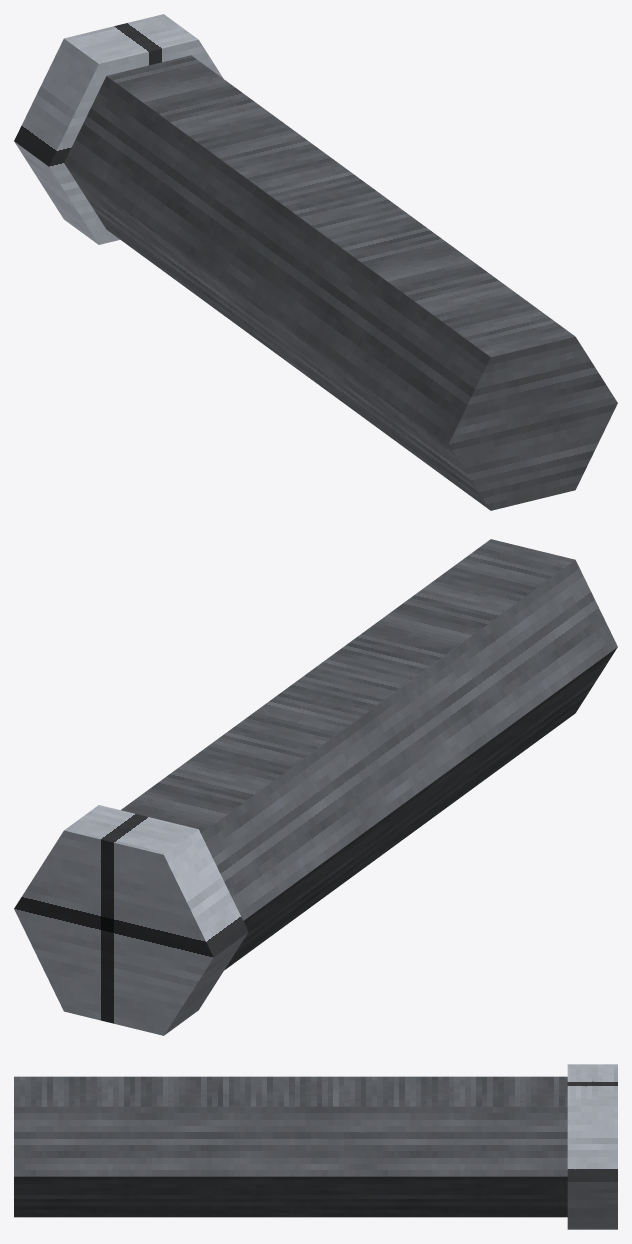
File: barrel_port_kestrel.glb
The picture shows the model from 3 angles, top to bottom: view 1: azimuth 30°, elevation 25°; view 2: azimuth 150°, elevation 25°; view 3: azimuth 270°, elevation 25°; orthographic projection. The views are drawn at different scales.
Visible parts, largest first — view 1: barrel, muzzle; view 2: barrel, muzzle; view 3: barrel, muzzle.
Boxes of the visible parts, <box> form: barrel: <box>64,55,617,510</box>; muzzle: <box>14,14,223,244</box>; barrel: <box>121,539,617,970</box>; muzzle: <box>14,805,248,1035</box>; barrel: <box>14,1076,567,1217</box>; muzzle: <box>567,1064,617,1229</box>.
Bounding box in the file's own units: 6.6 × 5.72 × 24.
2 materials, 2 textured.
